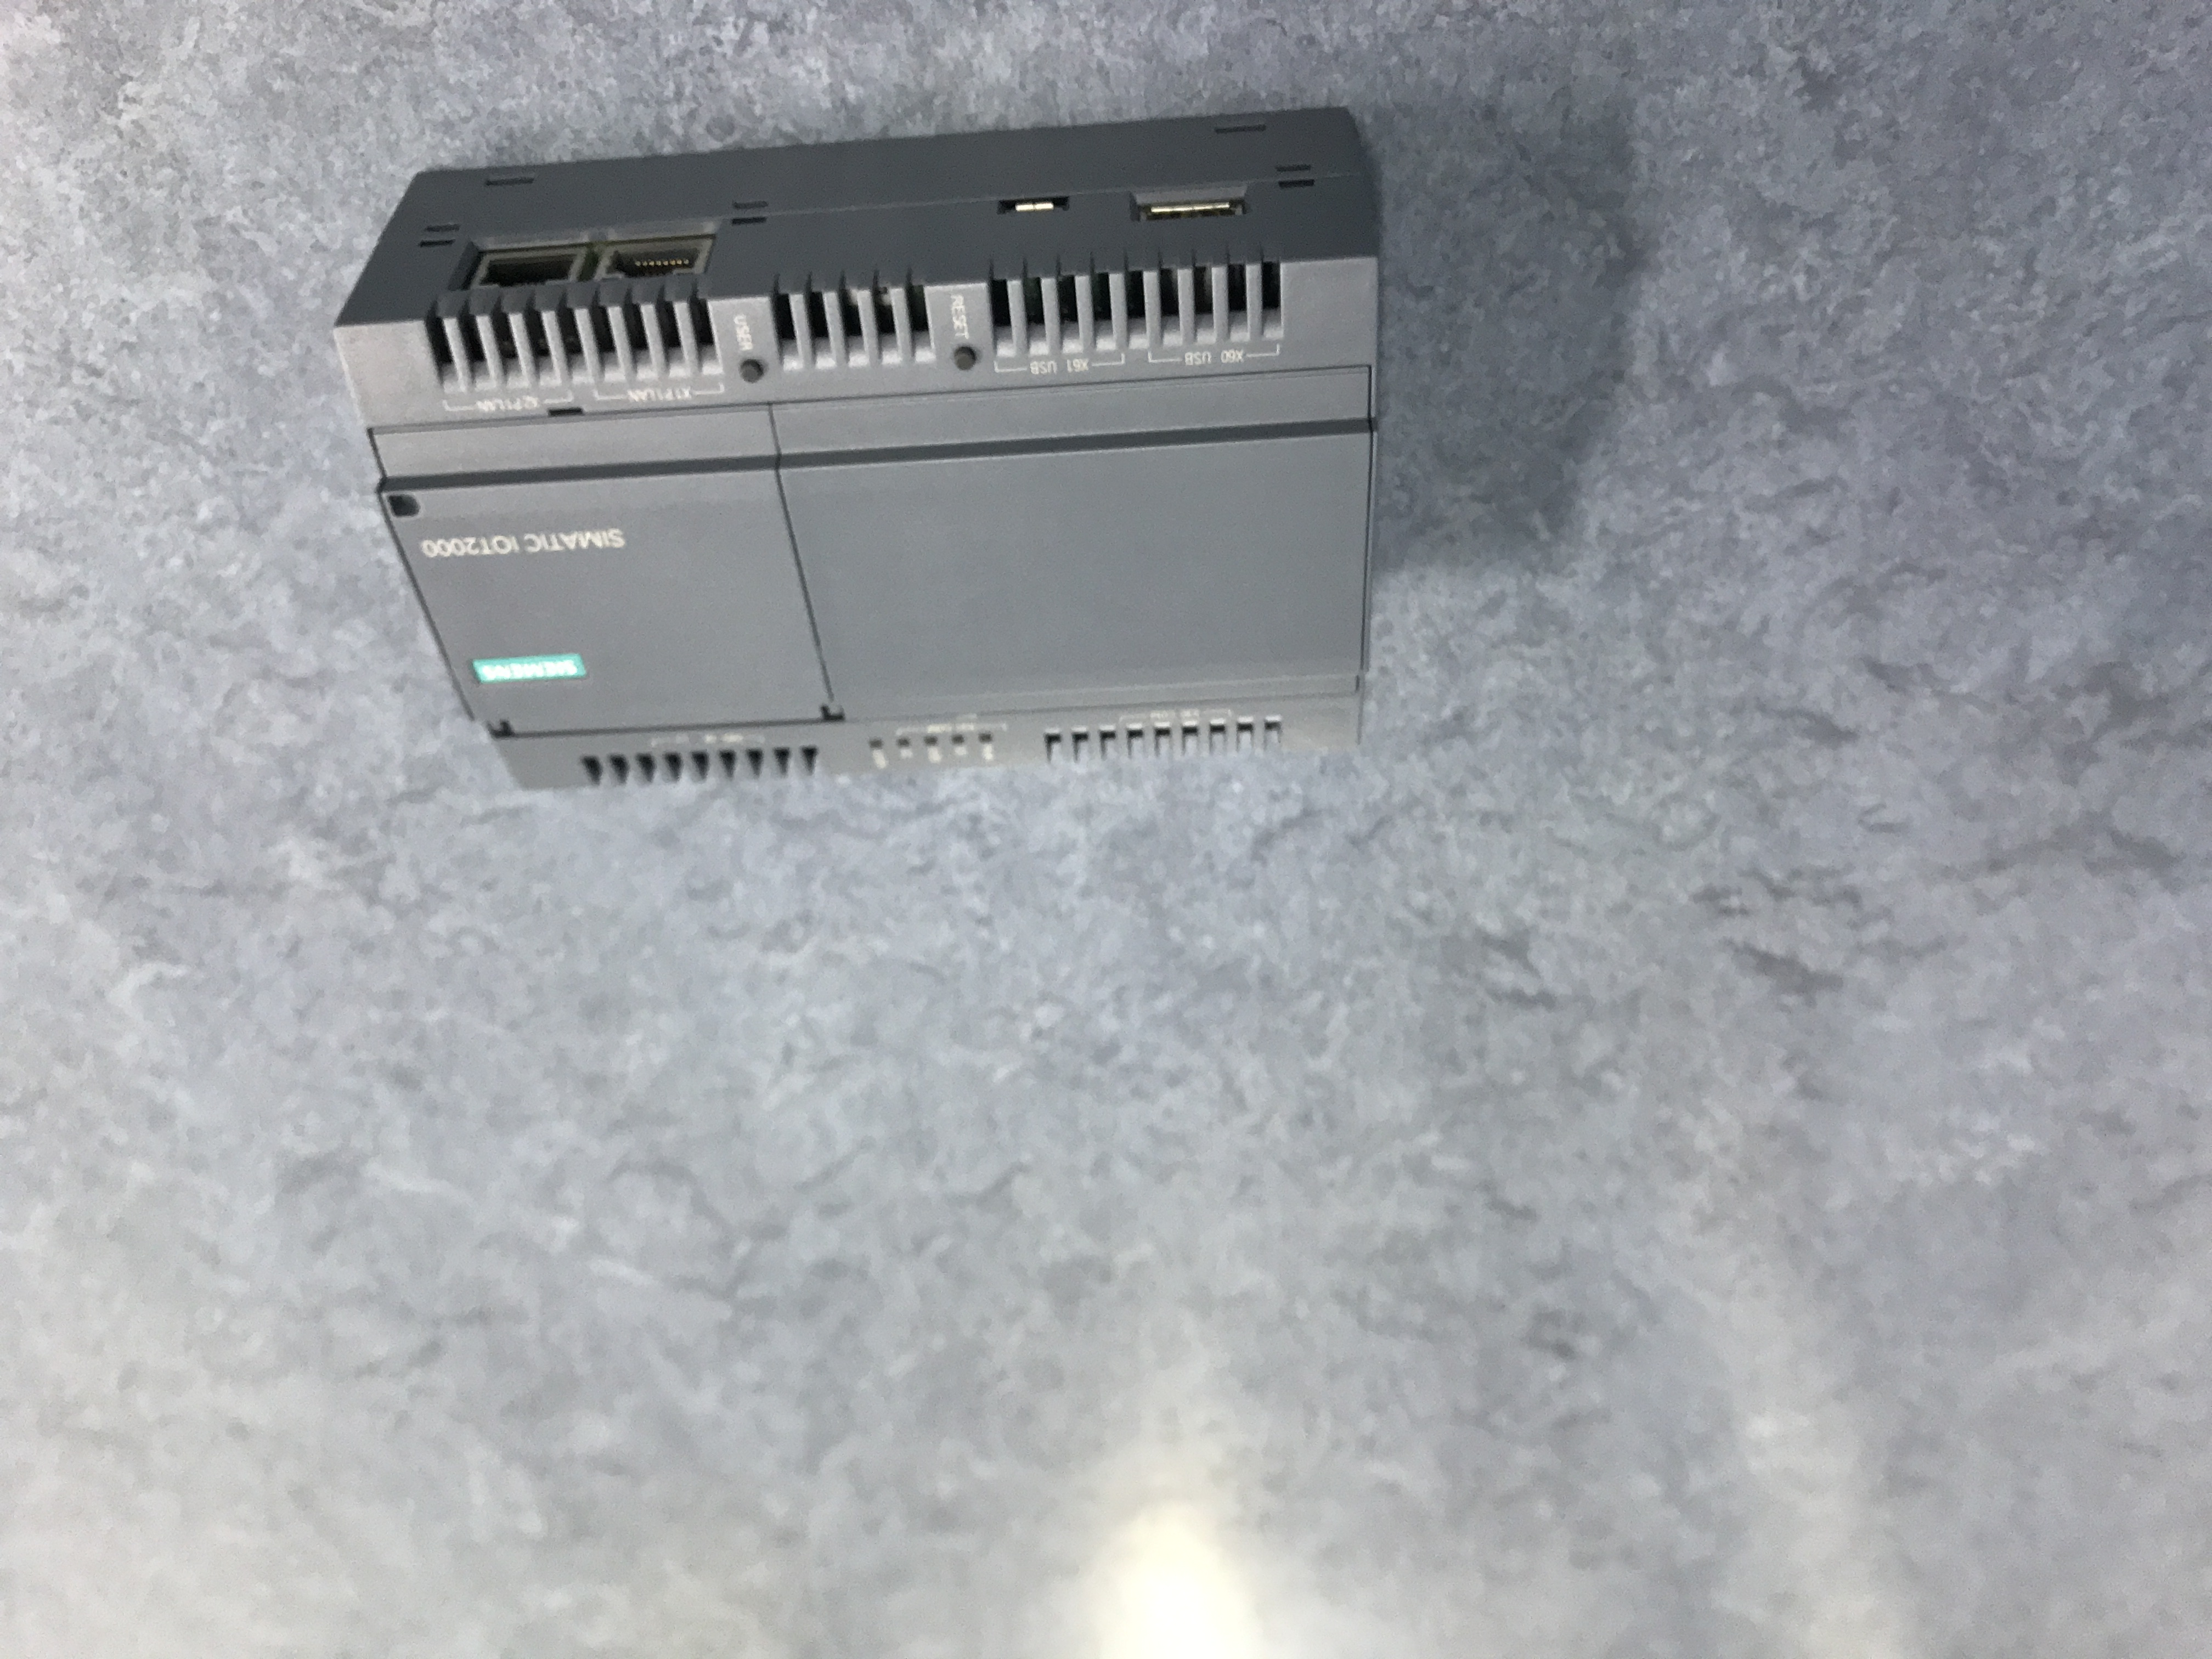device: (331, 105, 1383, 791)
